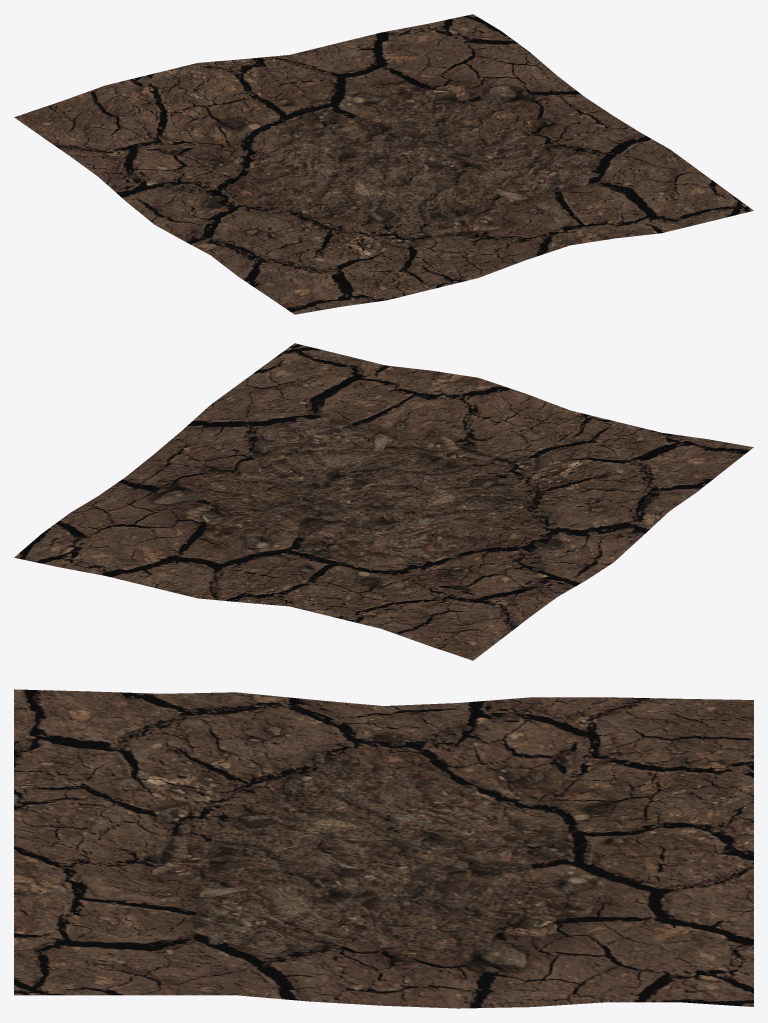
The model's file is Wet_Dirt.fbx.
3 renders of one model, top to bottom at view 1: azimuth 30°, elevation 25°; view 2: azimuth 150°, elevation 25°; view 3: azimuth 270°, elevation 25°, orthographic. The views are drawn at different scales.
Parts seen in each view (by area): view 1: Soil_Wet; view 2: Soil_Wet; view 3: Soil_Wet.
Part boxes in pixels (left/top/right/bottom): Soil_Wet: left=14, top=14, right=753, bottom=314; Soil_Wet: left=14, top=343, right=753, bottom=660; Soil_Wet: left=14, top=689, right=753, bottom=1008.
Size of the model in its own units: 112 by 4.74 by 119.
